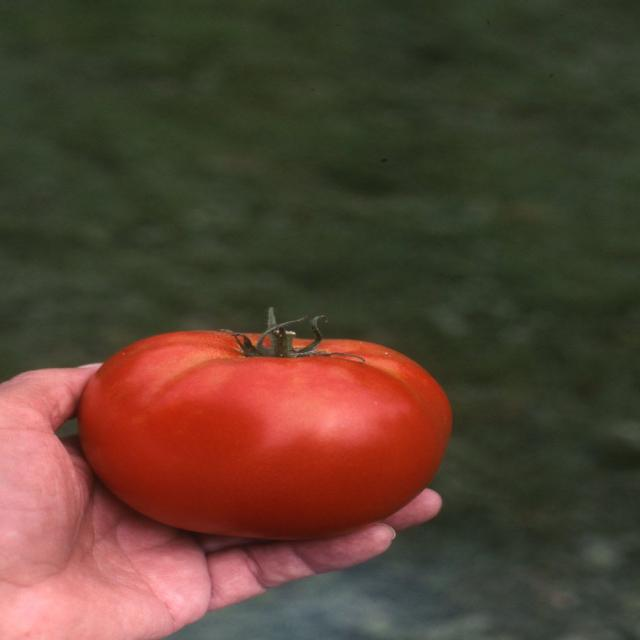kirmizi: (102, 307, 511, 541), (69, 308, 79, 312)
